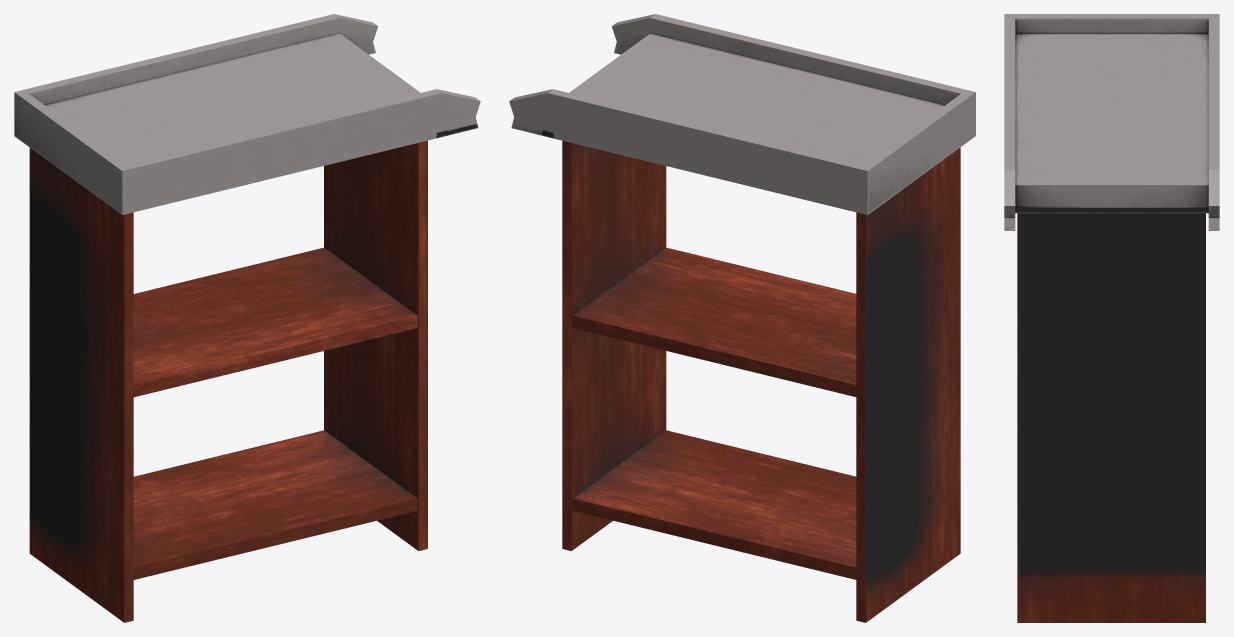
File: SM_Tray.fbx
The picture shows the model from 3 angles, left to right: view 1: azimuth 30°, elevation 25°; view 2: azimuth 150°, elevation 25°; view 3: azimuth 270°, elevation 25°; orthographic projection.
Parts seen in each view (by area): view 1: SM_Tray; view 2: SM_Tray; view 3: SM_Tray.
Boxes of the visible parts, x1,y1,x2,y2 form: SM_Tray: (14, 14, 480, 622); SM_Tray: (509, 14, 975, 622); SM_Tray: (1004, 14, 1219, 622).
Size of the model in its own units: 95.39 by 49.76 by 117.
Materials: 1 (1 with a texture image).
